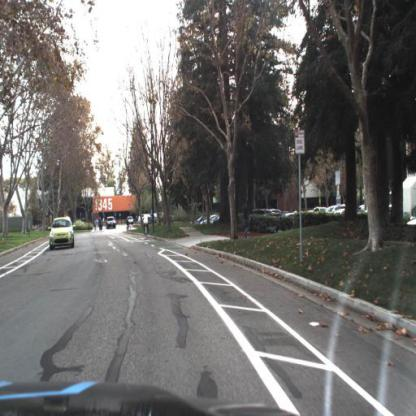biker: (143, 210, 151, 237), (127, 218, 132, 232)
car: (47, 215, 76, 251), (241, 199, 252, 242), (107, 216, 117, 230)
pedestrian: (95, 217, 105, 232)
